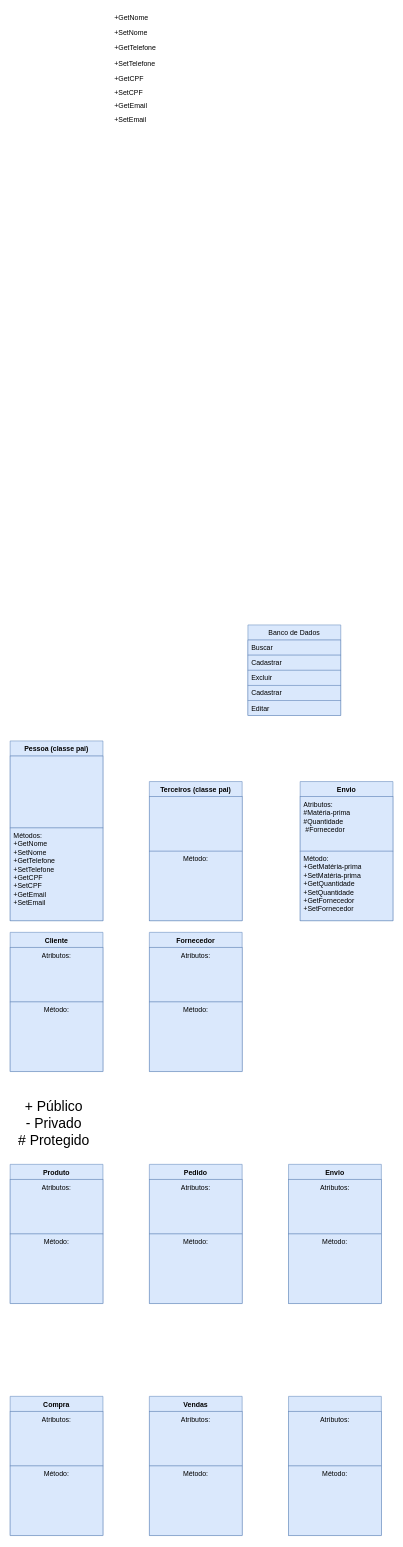
This 403x1547 diagram has some shape labels left out. The shapes that lost their labels are listed below. From the top down, each one's centre as x and y in pixels, then its label:
At [56,791]: "Atributos: - Nome -Telefone - Endereço - CPF - Email".
At [195,823]: "Atributos: - Nome -Telefone - E-mail".
